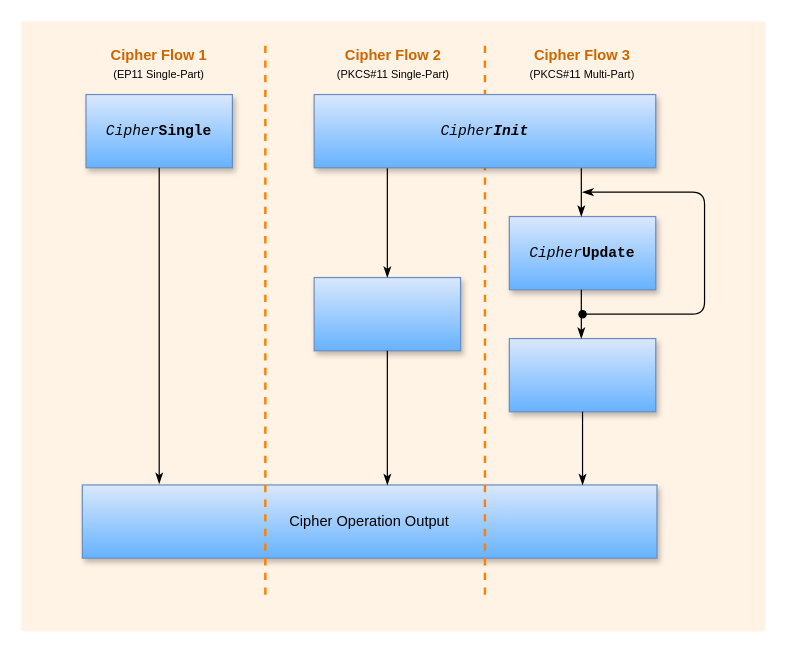
The diagram is 786 pixels wide and 651 high, and some of its shapes have lost their labels. The centre of each missing label's shape, as x and y in pixels:
Cipher: (388,315)
Cipher Final: (583,376)
